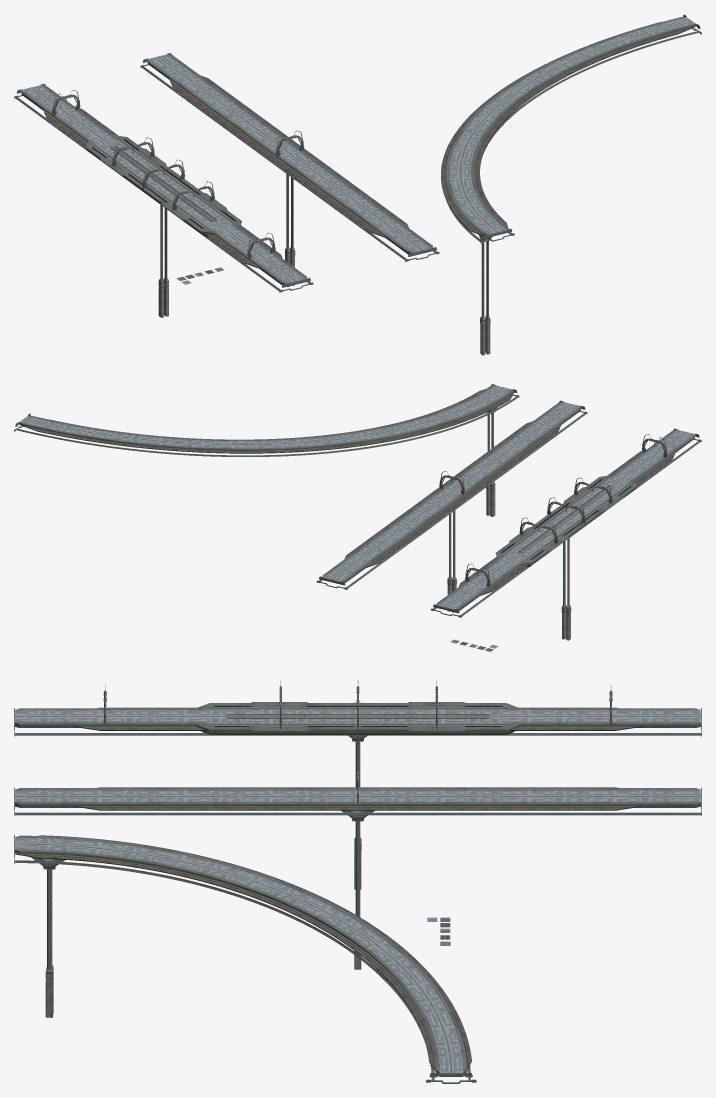
Rendered from 06_OBJ_highwayscfi.obj.
3 renders of one model, top to bottom at view 1: azimuth 30°, elevation 25°; view 2: azimuth 150°, elevation 25°; view 3: azimuth 270°, elevation 25°, orthographic. The views are drawn at different scales.
Parts seen in each view (by area): view 1: scHighway_track, scHighway_trackA01, scHighway_trackA, scHighway_trackB, scHighway_Border, scHighway_trackC, scHighway_BorderB01, scHighway_Border01, scHighway_BorderB, scHighway_BottomB01, scHighway_BottomB, scHighway_PPole02; view 2: scHighway_trackB, scHighway_track, scHighway_trackA01, scHighway_trackA, scHighway_Border, scHighway_trackC, scHighway_BorderB01, scHighway_Border01, scHighway_BorderB, scHighway_BottomB01, scHighway_trackA02, scHighway_BottomB; view 3: scHighway_track, scHighway_trackA, scHighway_trackA01, scHighway_trackB, scHighway_Border, scHighway_trackC, scHighway_Border01, scHighway_BorderB01, scHighway_BottomB01, scHighway_Bottom, scHighway_BorderB, scHighway_BottomB (+2 smaller).
Part boxes in pixels (x1,y1,x2,y2): scHighway_track: [449, 17, 694, 234]; scHighway_trackA01: [148, 54, 431, 252]; scHighway_trackA: [22, 85, 305, 283]; scHighway_trackB: [92, 17, 698, 241]; scHighway_Border: [21, 85, 306, 283]; scHighway_trackC: [441, 21, 694, 236]; scHighway_BorderB01: [169, 75, 408, 238]; scHighway_Border01: [147, 54, 432, 252]; scHighway_BorderB: [43, 106, 282, 268]; scHighway_BottomB01: [141, 65, 436, 260]; scHighway_BottomB: [15, 96, 310, 291]; scHighway_PPole02: [481, 239, 488, 317]; scHighway_trackB: [17, 385, 631, 560]; scHighway_track: [20, 385, 512, 448]; scHighway_trackA01: [324, 402, 580, 581]; scHighway_trackA: [438, 429, 694, 609]; scHighway_Border: [436, 429, 695, 609]; scHighway_trackC: [20, 389, 514, 453]; scHighway_BorderB01: [344, 421, 561, 568]; scHighway_Border01: [322, 401, 581, 581]; scHighway_BorderB: [458, 449, 675, 596]; scHighway_BottomB01: [319, 412, 586, 588]; scHighway_trackA02: [19, 393, 511, 450]; scHighway_BottomB: [433, 440, 700, 616]; scHighway_track: [14, 837, 462, 1072]; scHighway_trackA: [14, 709, 701, 723]; scHighway_trackA01: [14, 790, 701, 801]; scHighway_trackB: [15, 706, 507, 1080]; scHighway_Border: [15, 702, 700, 731]; scHighway_trackC: [15, 835, 471, 1073]; scHighway_Border01: [15, 788, 700, 804]; scHighway_BorderB01: [75, 787, 640, 810]; scHighway_BottomB01: [15, 812, 701, 815]; scHighway_Bottom: [15, 723, 700, 734]; scHighway_BorderB: [75, 707, 640, 730]; scHighway_BottomB: [15, 733, 701, 735].
Bounding box in the file's own units: 8561 × 2136 × 6708.
7 materials, 6 textured.
